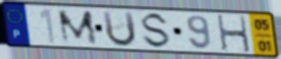1: (39, 9, 57, 45)
9: (186, 14, 212, 50)
H: (215, 14, 252, 55)
M: (55, 9, 100, 46)
S: (141, 11, 173, 50)
U: (101, 9, 139, 49)
